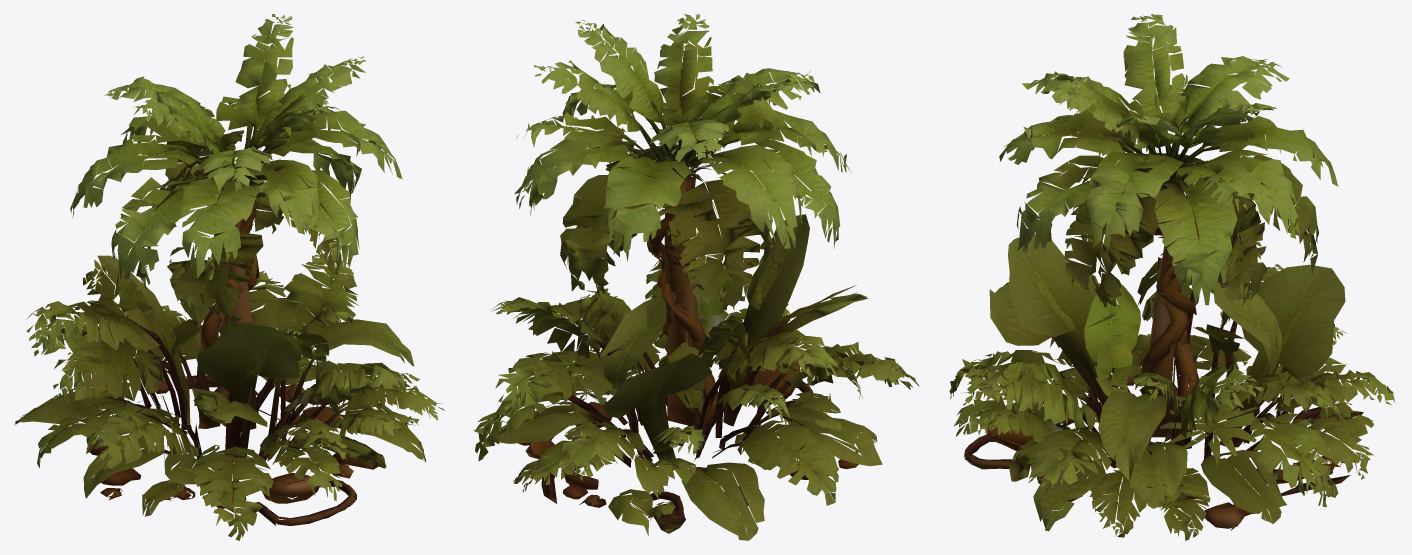
File: jun_fern_cluster_low_LOD1.glb
3 views of the same model, side by side, from view 1: azimuth 30°, elevation 25°; view 2: azimuth 150°, elevation 25°; view 3: azimuth 270°, elevation 25° (orthographic). The views are drawn at different scales.
Visible parts, largest first — view 1: tripo_node_f26c364c-f640-4782-969d-d89758f2ef56; view 2: tripo_node_f26c364c-f640-4782-969d-d89758f2ef56; view 3: tripo_node_f26c364c-f640-4782-969d-d89758f2ef56.
Boxes of the visible parts, x1,y1,x2,y2 form: tripo_node_f26c364c-f640-4782-969d-d89758f2ef56: (14, 14, 444, 540); tripo_node_f26c364c-f640-4782-969d-d89758f2ef56: (473, 14, 919, 540); tripo_node_f26c364c-f640-4782-969d-d89758f2ef56: (949, 14, 1395, 540).
Size of the model in its own units: 0.9445 by 0.9969 by 0.9986.
Materials: 1 (1 with a texture image).
